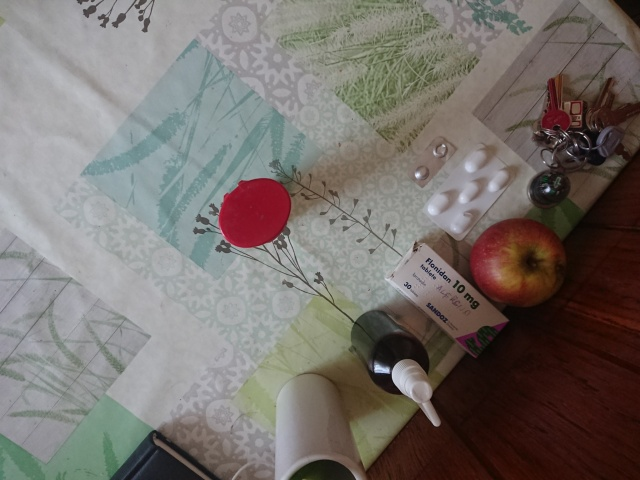Kotanyi Curry Spices Mix 70g: (216, 176, 293, 250)
